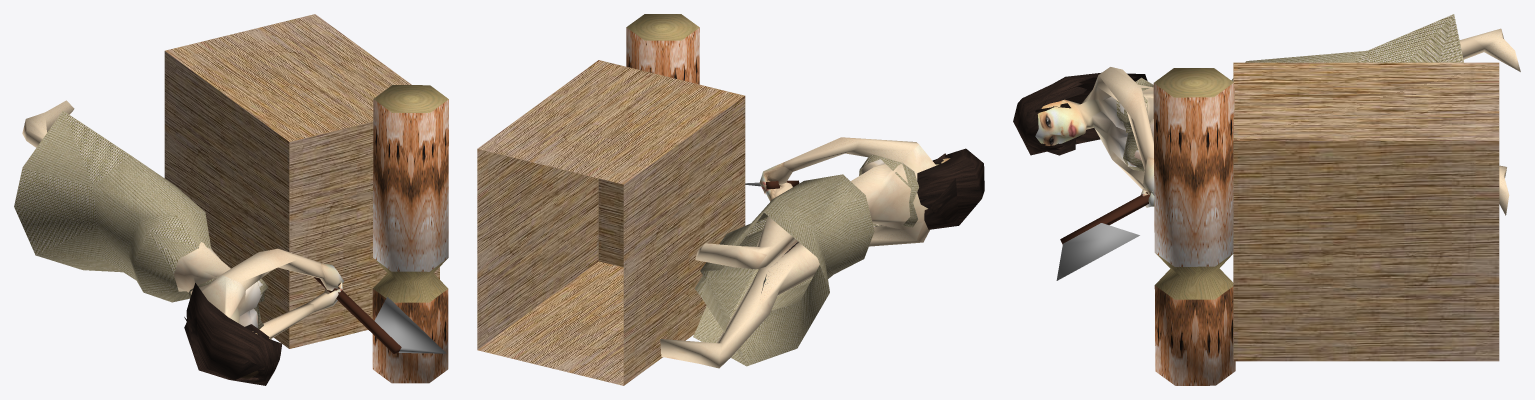
The model's file is worker_000620.obj.
The picture shows the model from 3 angles, left to right: view 1: azimuth 30°, elevation 25°; view 2: azimuth 150°, elevation 25°; view 3: azimuth 270°, elevation 25°; orthographic projection. The views are drawn at different scales.
Parts seen in each view (by area): view 1: cube_Cube, saree_Cylinder, log_Cylinder.003, body.001_omino.012, hair.003_omino.013, axe_Cylinder.001; view 2: cube_Cube, saree_Cylinder, body.001_omino.012, log_Cylinder.003, hair.003_omino.013; view 3: cube_Cube, log_Cylinder.003, body.001_omino.012, saree_Cylinder, hair.003_omino.013, axe_Cylinder.001.
Boxes of the visible parts, x1,y1,x2,y2 form: cube_Cube: (164,14,439,348); saree_Cylinder: (14,110,268,329); log_Cylinder.003: (372,85,448,383); body.001_omino.012: (22,100,343,378); hair.003_omino.013: (184,283,281,385); axe_Cylinder.001: (314,277,446,353); cube_Cube: (477,60,745,385); saree_Cylinder: (693,155,918,366); body.001_omino.012: (660,137,950,368); log_Cylinder.003: (626,14,699,84); hair.003_omino.013: (917,148,984,229); cube_Cube: (1233,62,1499,361); log_Cylinder.003: (1153,68,1235,385); body.001_omino.012: (1035,28,1520,215); saree_Cylinder: (1116,14,1463,171); hair.003_omino.013: (1013,72,1147,155); axe_Cylinder.001: (1056,192,1150,280).
Bounding box in the file's own units: 2.15 × 1.68 × 2.68.
